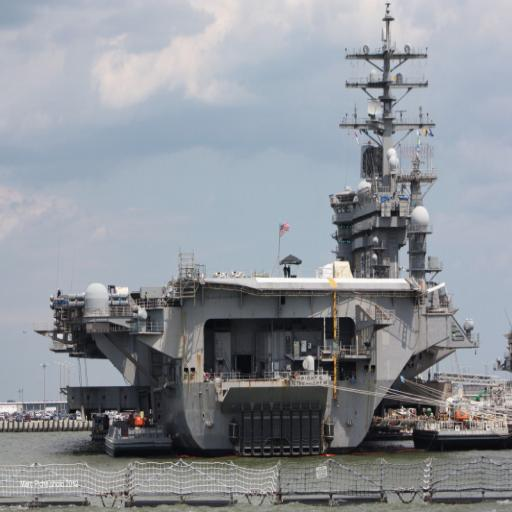Portanaves: (29, 2, 484, 459)
